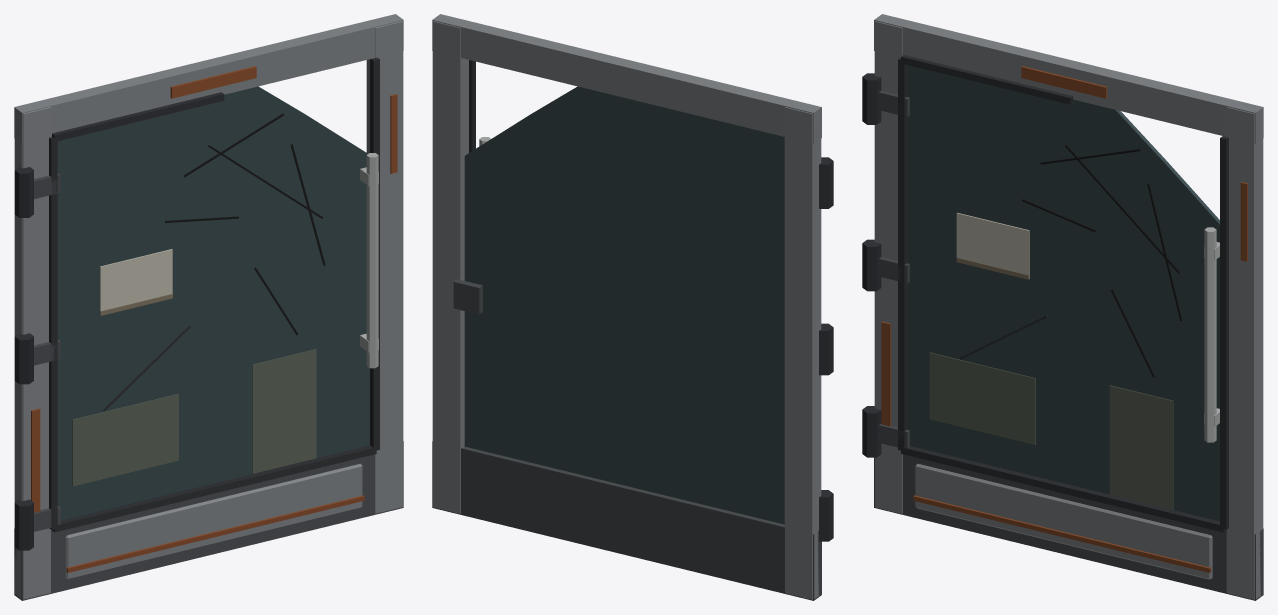
Rendered from bld_door_shop_glass.fbx.
3 renders of one model, left to right at view 1: azimuth 30°, elevation 25°; view 2: azimuth 150°, elevation 25°; view 3: azimuth 330°, elevation 25°, orthographic.
Parts seen in each view (by area): view 1: bld_door_shop_glass; view 2: bld_door_shop_glass; view 3: bld_door_shop_glass.
Boxes of the visible parts, <box> form: bld_door_shop_glass: <box>14,14,403,600</box>; bld_door_shop_glass: <box>432,14,833,600</box>; bld_door_shop_glass: <box>862,14,1263,600</box>.
Bounding box in the file's own units: 1.83 × 2.2 × 0.18.
